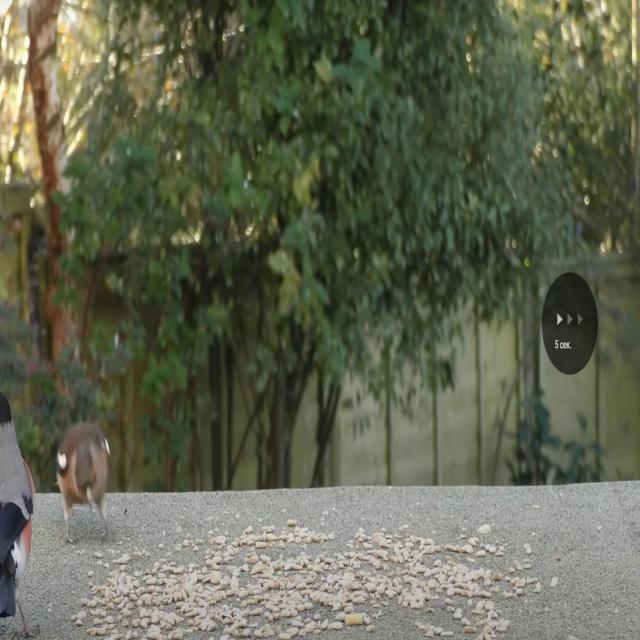beak: (83, 486, 96, 513)
bird: (0, 390, 42, 640), (52, 423, 119, 552)
